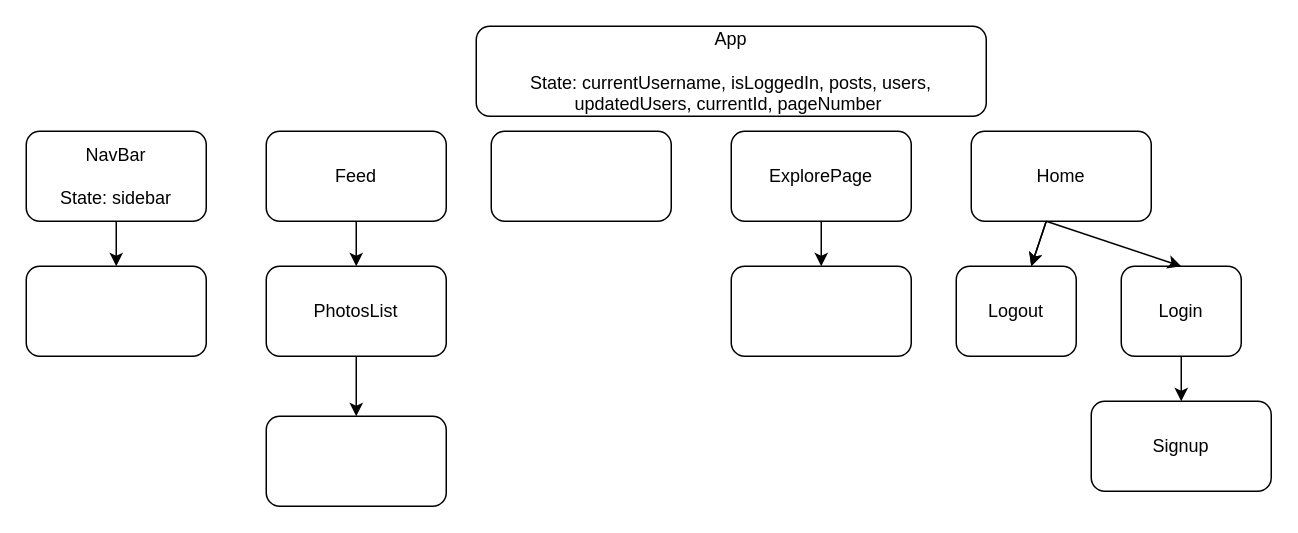
This 1298x533 diagram has some shape labels left out. The shapes that lost their labels are listed below. From the top down, each one's centre as x and y in pixels, then its label:
At pixel 580 175: "Form State: form".
At pixel 115 310: "Sidebar".
At pixel 820 310: "SearchPhotos State: query, searchedPhotos".
At pixel 355 460: "Photo".
